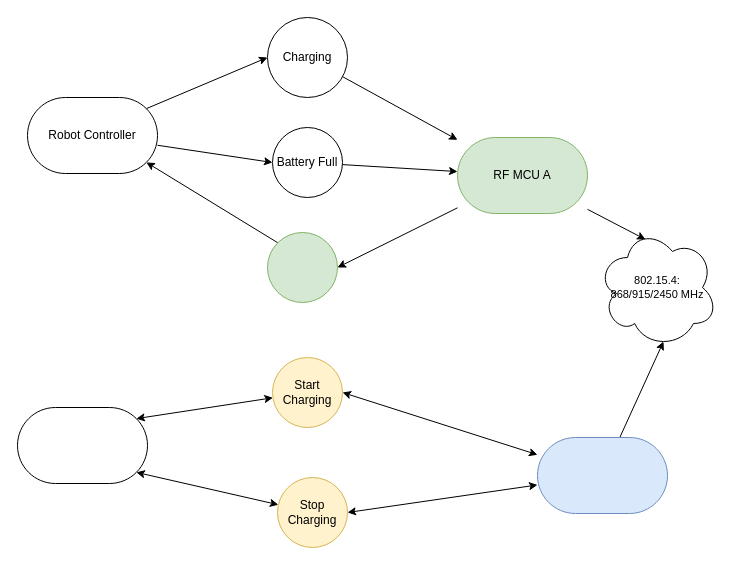
Some shapes in this 735 by 565 pixel diagram are drawn without their labels. The centre of each missing label's shape, as x and y in pixels:
"Charging Station" goes at point (82, 445).
"RF MCU B" goes at point (602, 475).
"Station Signal Status" goes at point (302, 267).
